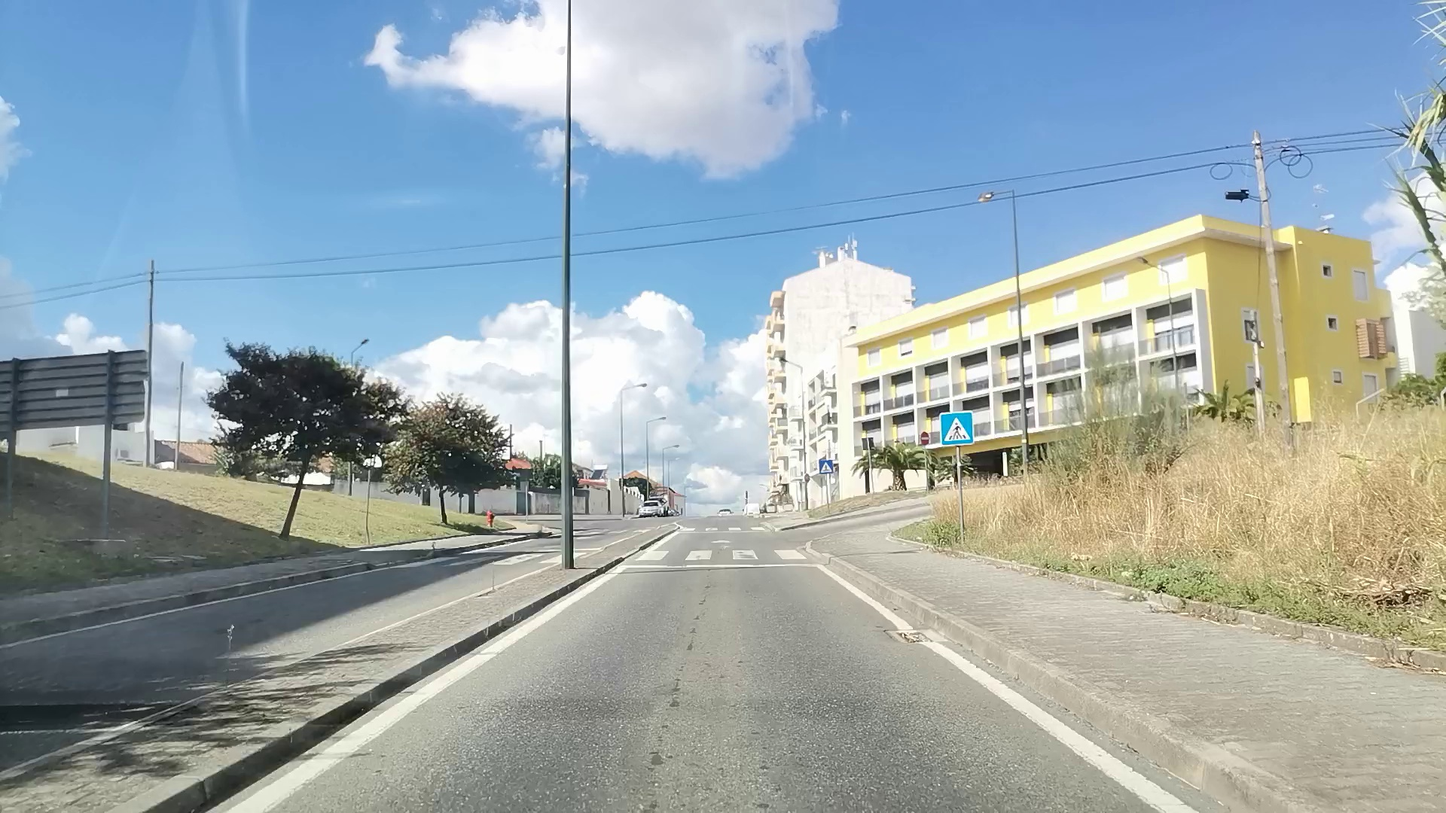Stairs: (392, 551, 584, 566), (636, 546, 802, 562), (681, 526, 766, 532)
